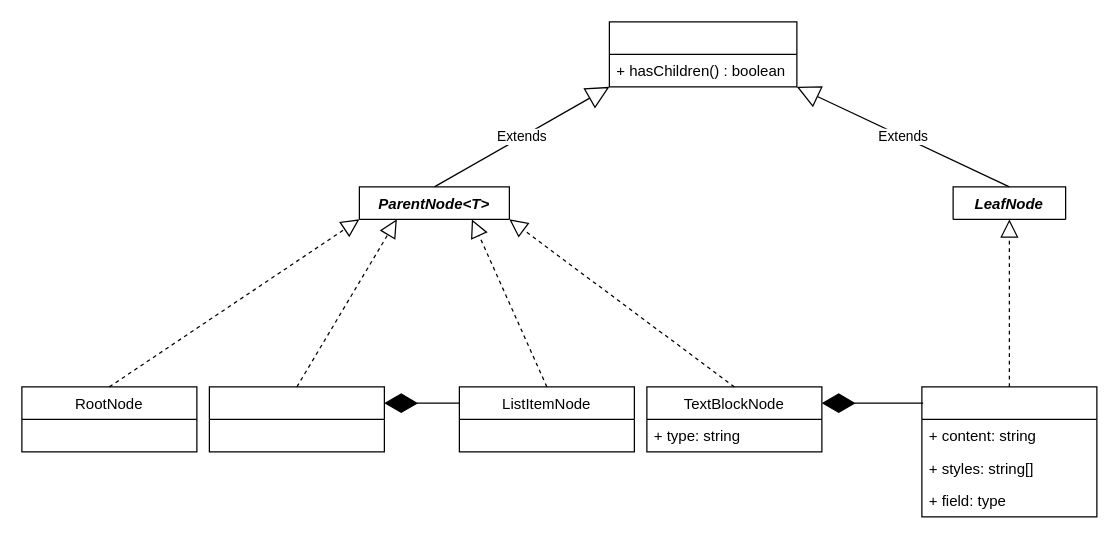
This 1119x543 diagram has some shape labels left out. Each missing label, with the box of its shape:
DocumentTreeNode: (608, 21, 797, 87)
ListNode: (208, 386, 384, 452)
TextNode: (921, 386, 1097, 517)
